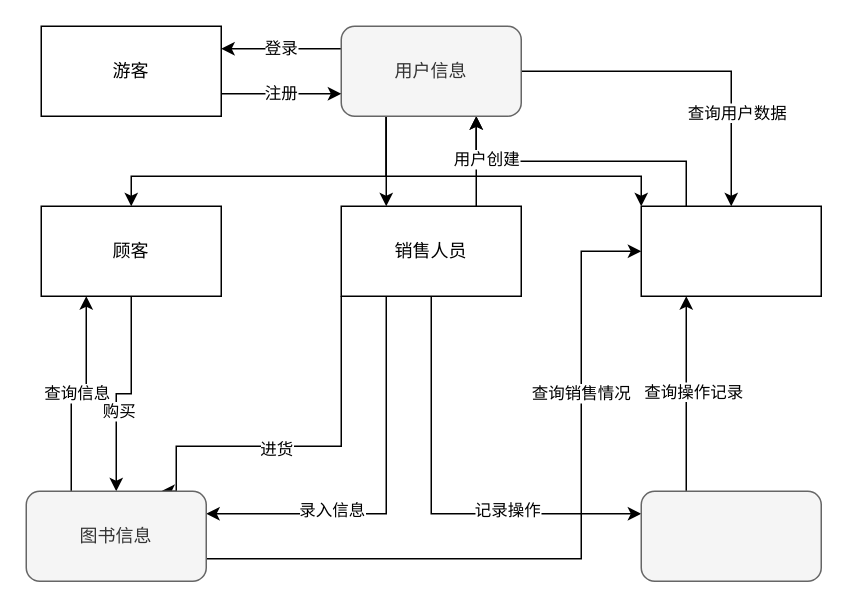
Image size: 848x608. Some labels were removed from this diagram. The centre of each missing label's shape, as x and y in pixels:
店长: (x=730, y=250)
操作记录: (x=730, y=535)
